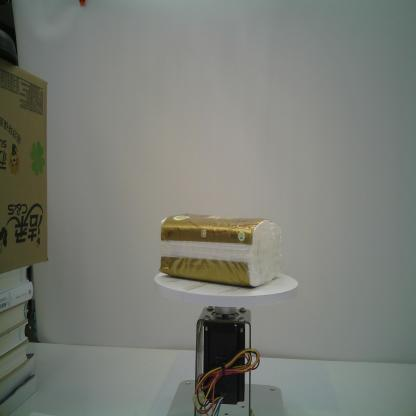Tissue: (158, 212, 282, 288)
